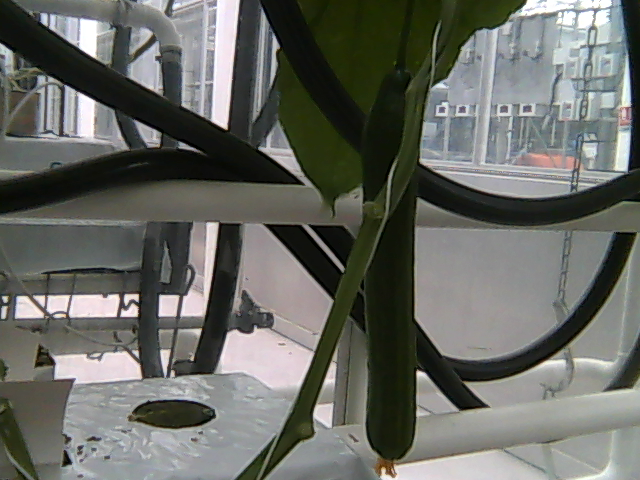concombre: (357, 57, 421, 480)
